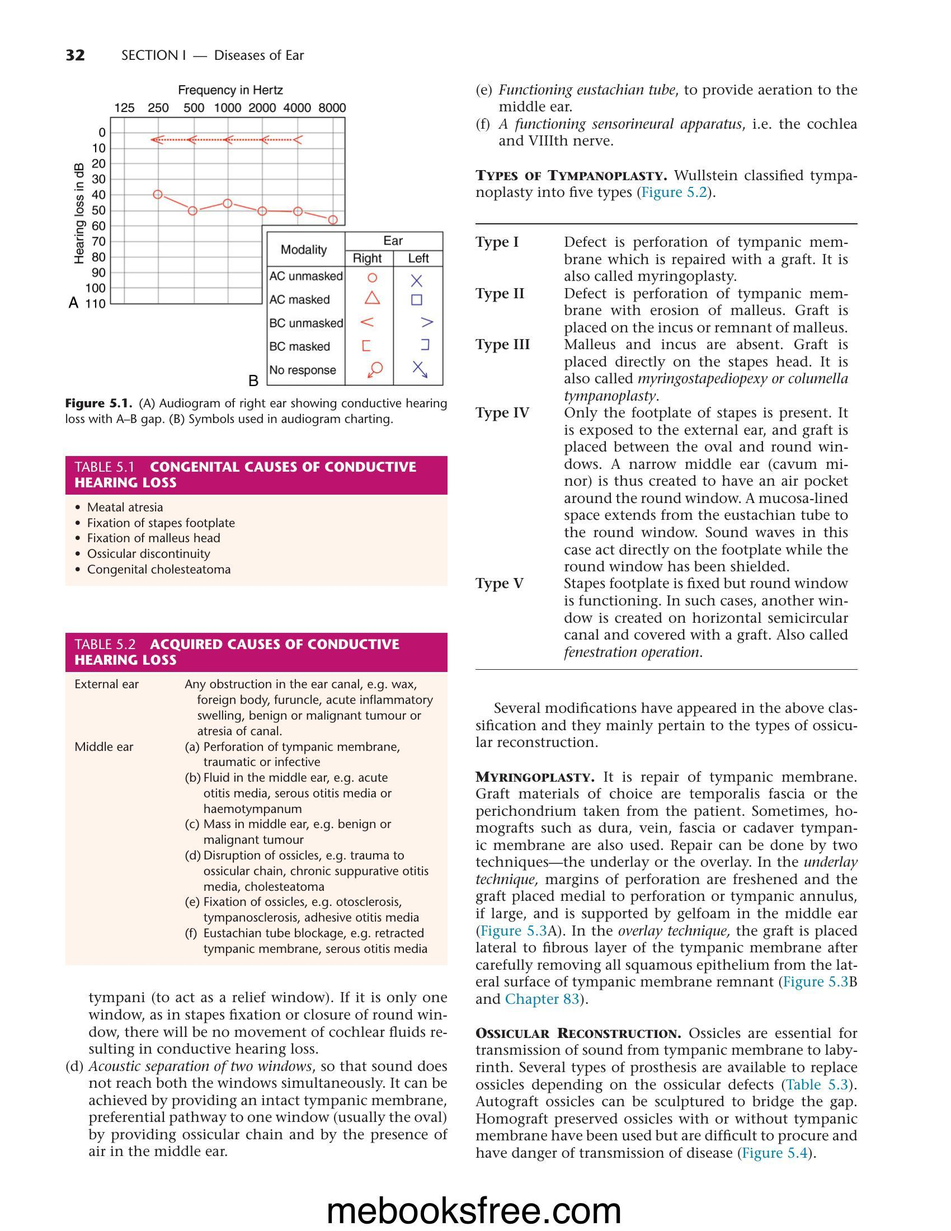caption: (64, 396, 451, 429), (72, 459, 418, 489), (72, 637, 402, 667), (67, 294, 81, 310), (246, 372, 260, 388)
header: (121, 48, 305, 61)
image: (61, 74, 459, 393)
list: (469, 224, 856, 666), (63, 988, 449, 1158), (473, 80, 860, 148)
table: (65, 672, 447, 965), (65, 493, 447, 585)
text: (472, 699, 860, 1163), (474, 166, 859, 204)
